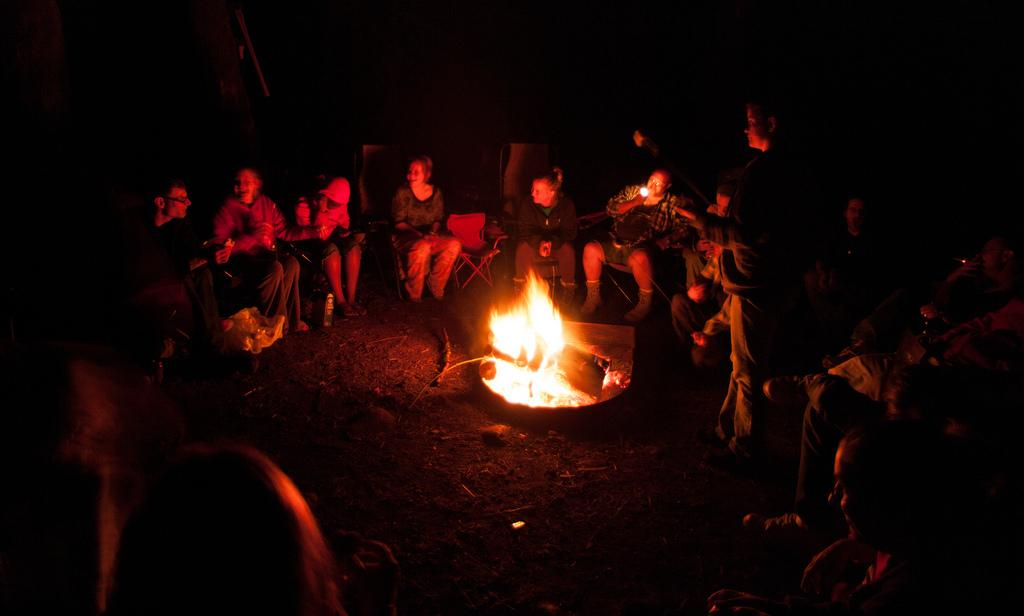fire: (493, 293, 563, 405)
